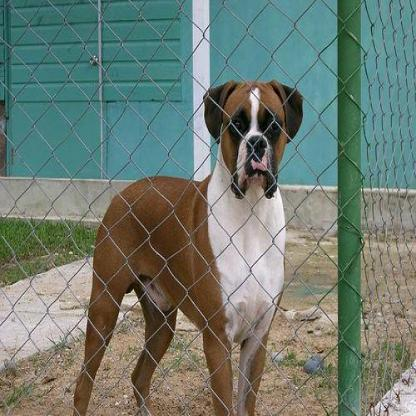boxer: (69, 76, 305, 414)
